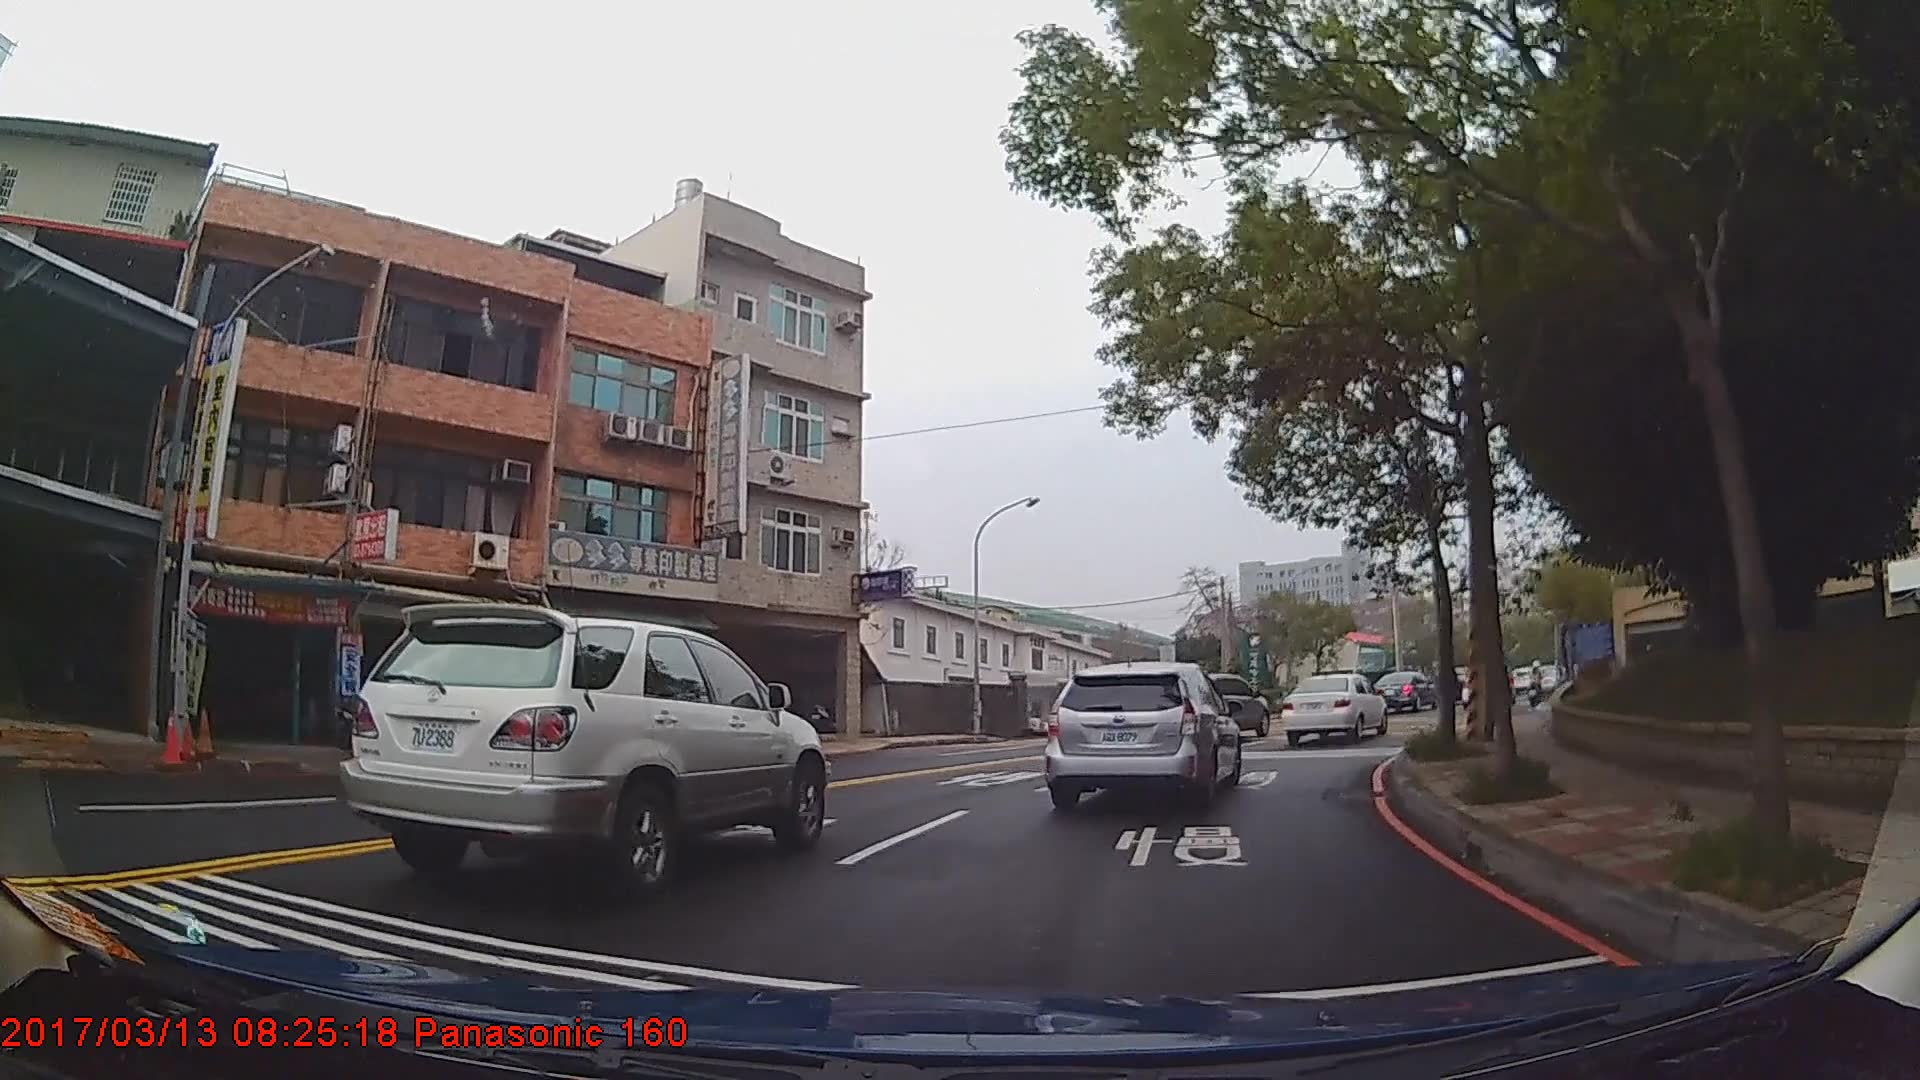vehicle: (338, 603, 825, 901), (1040, 659, 1240, 810), (1276, 671, 1387, 744), (1176, 671, 1269, 742), (1367, 667, 1435, 713)
